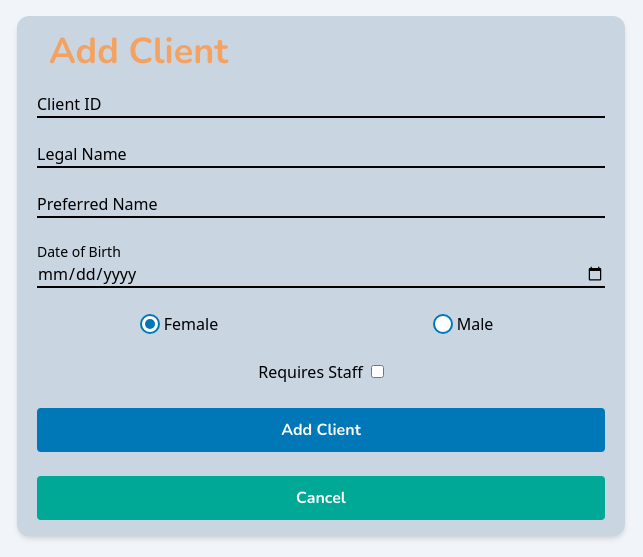
Test: AddClientPage tests › should have an error if the Legal Name if only 1 name entered
This screenshot has width=643, height=557.
Type "William" into the field labelled "Legal Name".
click(321, 155); type("William")  # box [37,142,605,168]
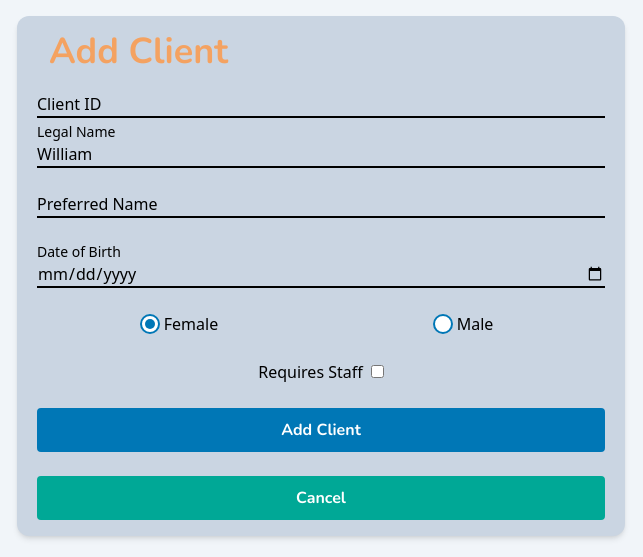
Click the button "Add Client".
click(321, 430)  # box [37,408,605,452]
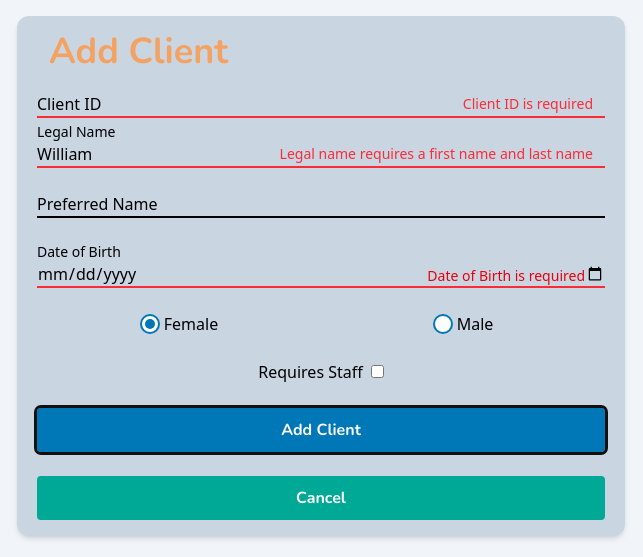
Expected: the text "Legal name requires a first name and last name" is shown, [280,144,593,164]
